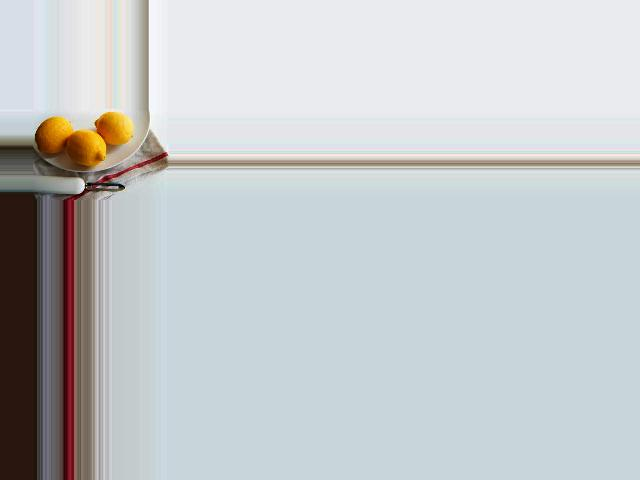lemon: (31, 116, 73, 150)
